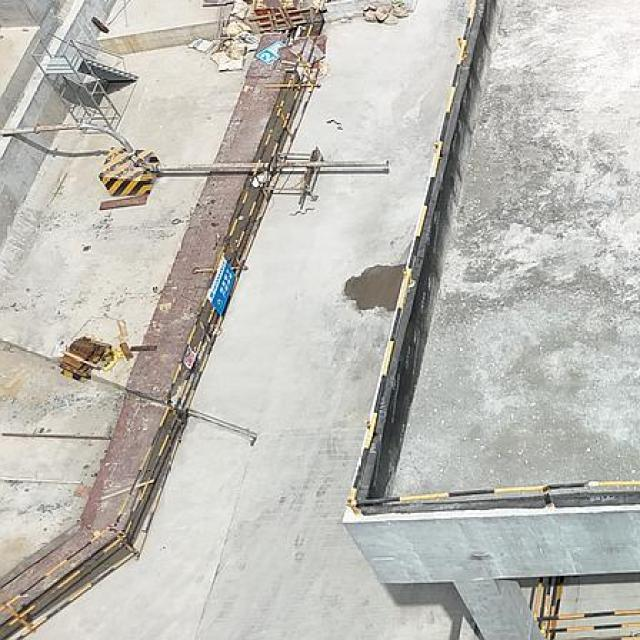edge_guardrail: (341, 0, 640, 519), (533, 576, 640, 634)
